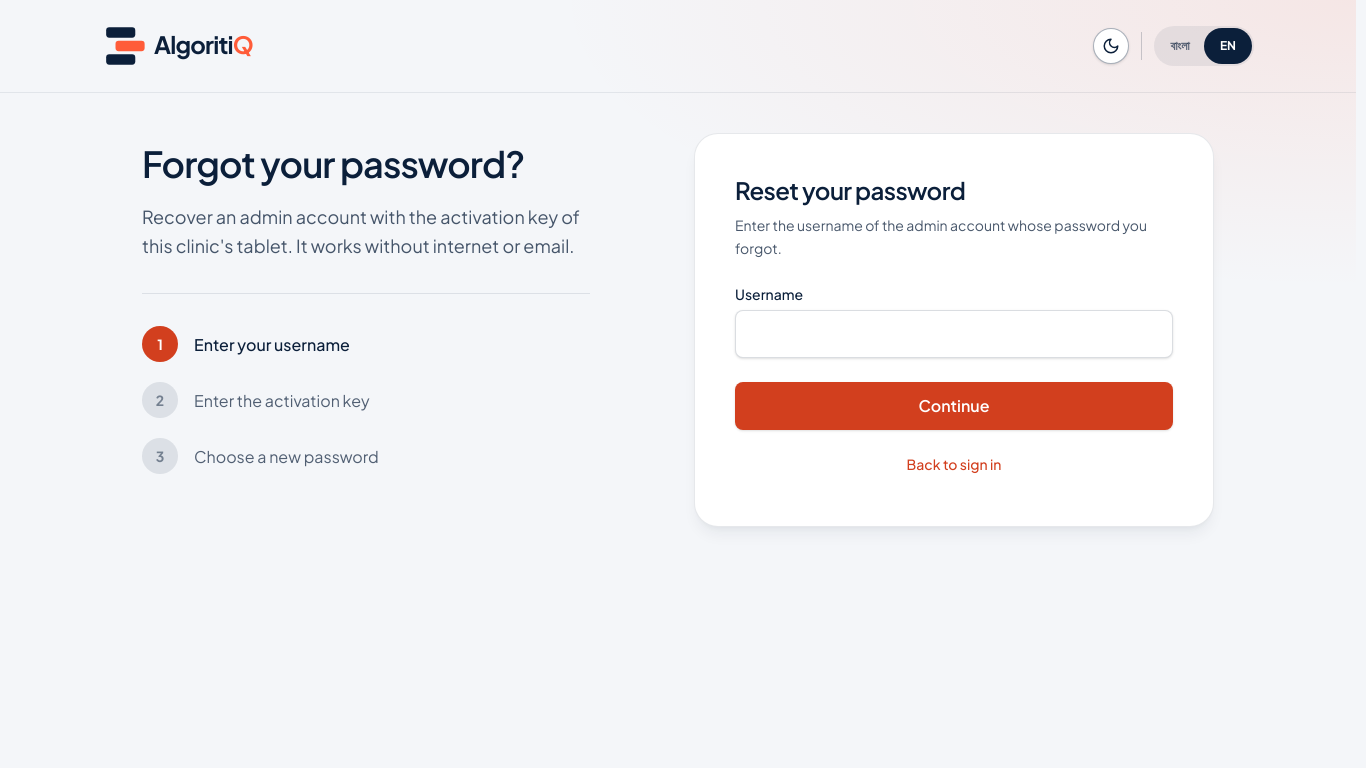
forgot password › should ask for the activation key
This screenshot has width=1366, height=768.
Step 1. Type "Owner" into the field labelled "Username" → (954, 334), box [735,310,1173,358]
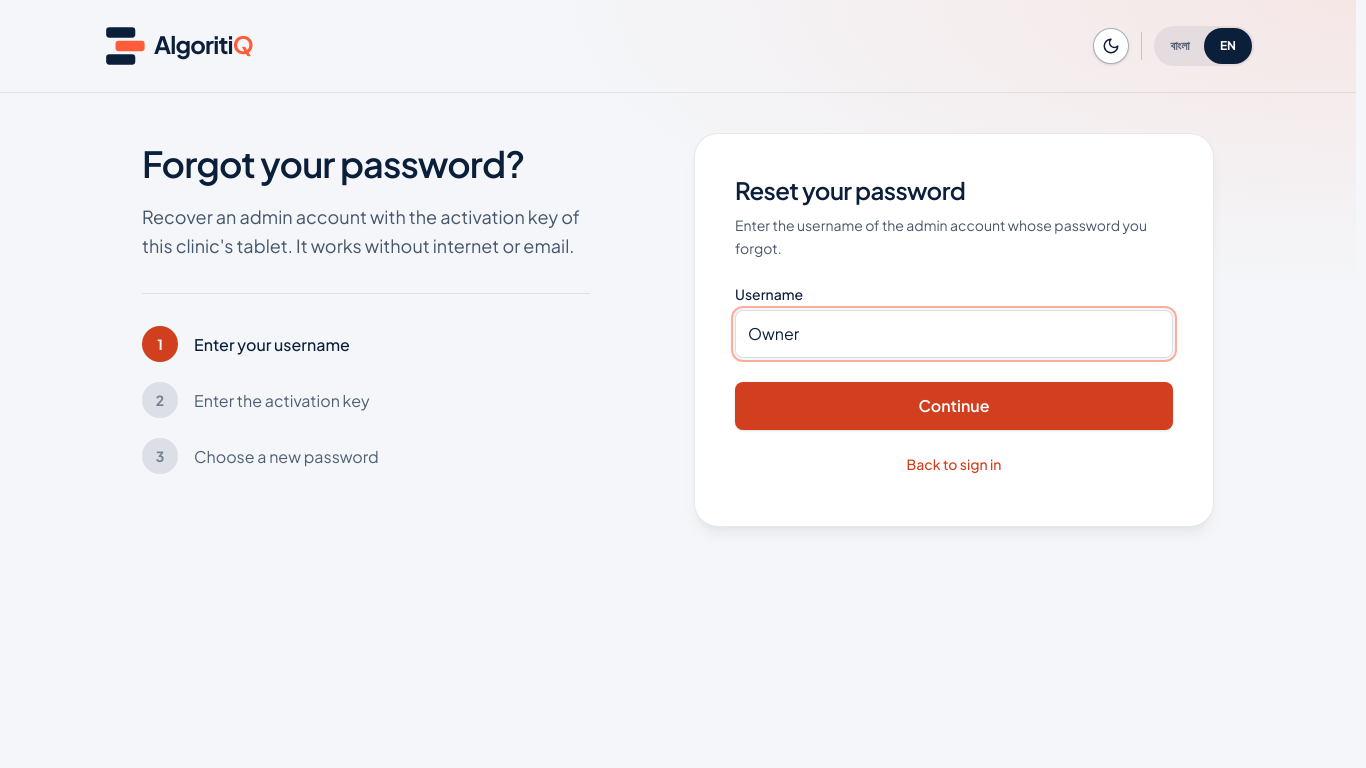
Step 2. Click the button "Continue" → (954, 406), box [735,382,1173,430]
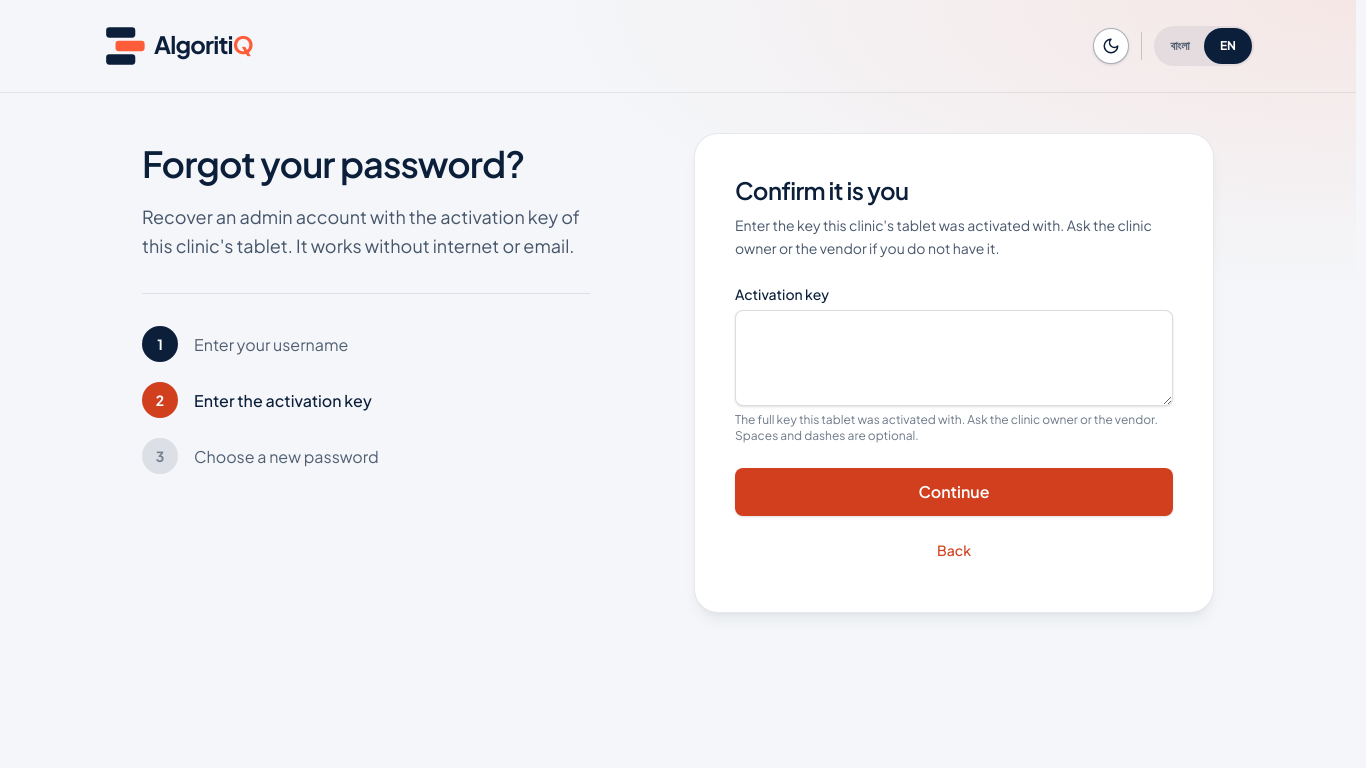
Step 3. Click the button "Continue" → (954, 492), box [735,468,1173,516]
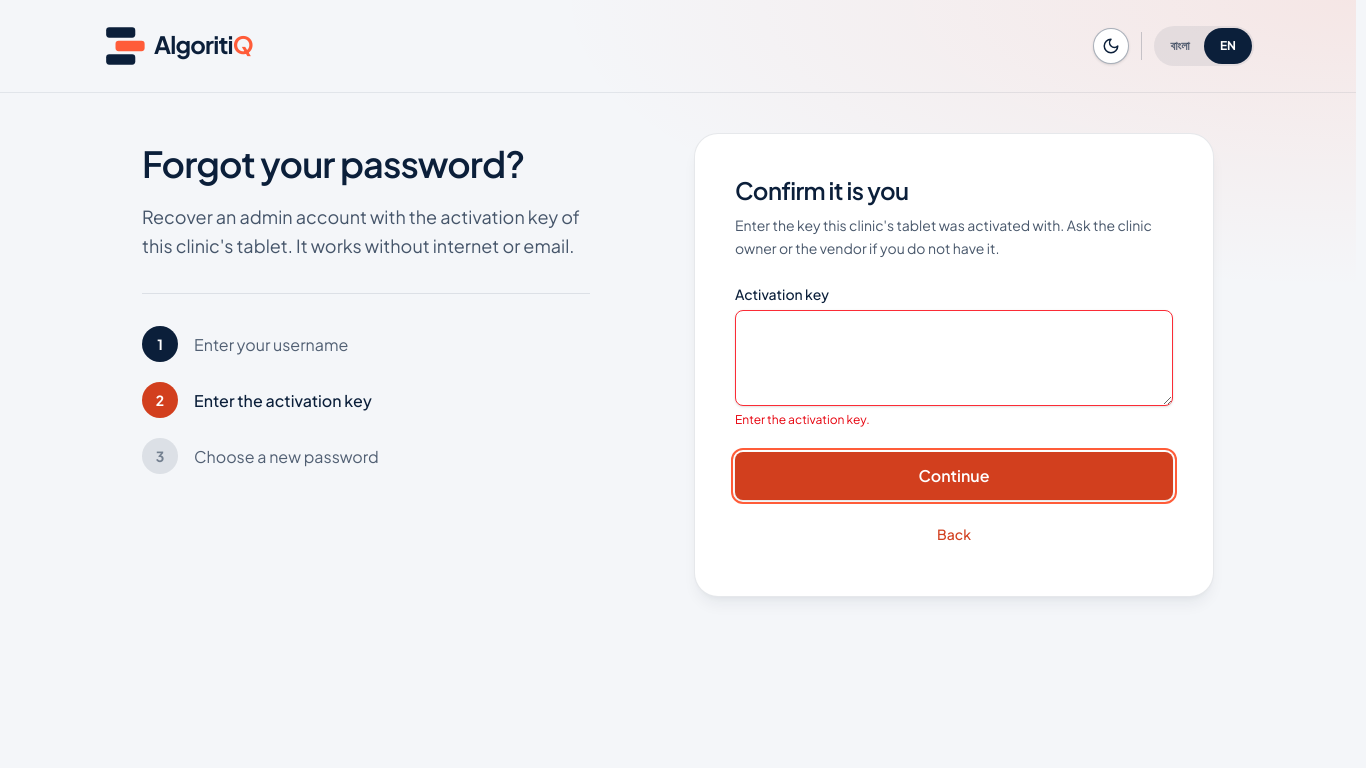
Expected: the text "Enter the activation key." is shown, [735,412,870,426]
